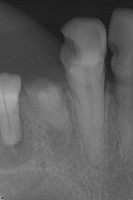Furcation Involvement: (0, 112, 34, 170)
